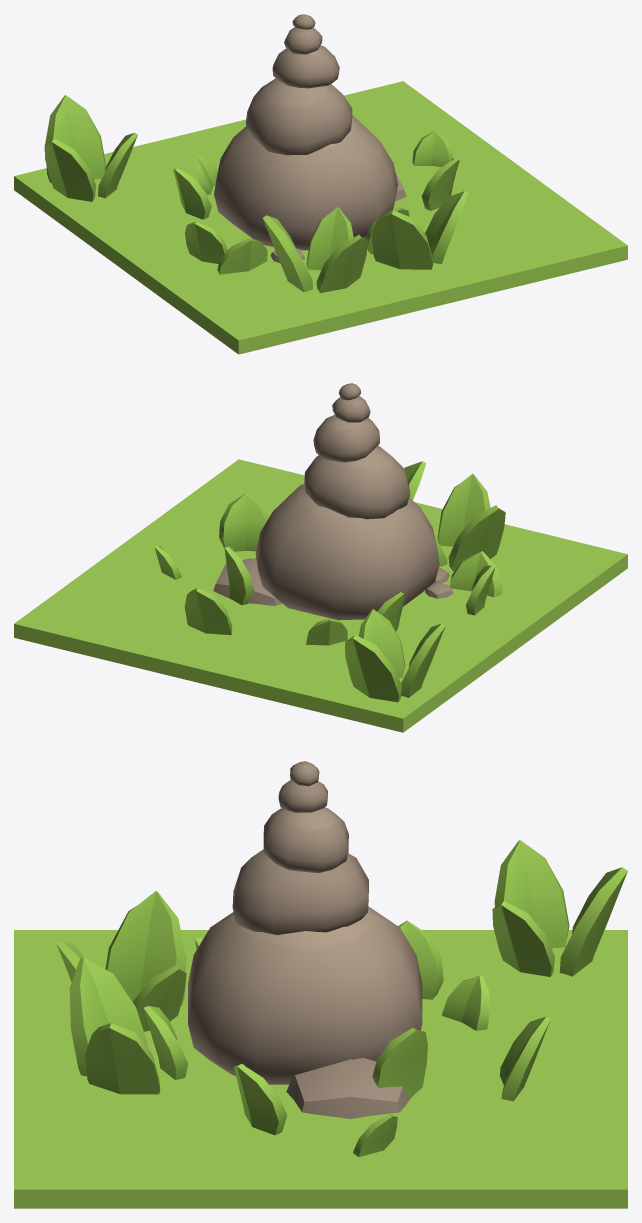
The model's file is stones.glb.
3 views of the same model, one above another, from view 1: azimuth 30°, elevation 25°; view 2: azimuth 150°, elevation 25°; view 3: azimuth 270°, elevation 25° (orthographic). The views are drawn at different scales.
Parts seen in each view (by area): view 1: Stones; view 2: Stones; view 3: Stones.
Boxes of the visible parts, x1=… form: Stones: x1=14, y1=14, x2=627, y2=354; Stones: x1=14, y1=383, x2=627, y2=732; Stones: x1=14, y1=761, x2=627, y2=1208.
Bounding box in the file's own units: 0.2918 × 0.1638 × 0.29.
1 material, 1 textured.
